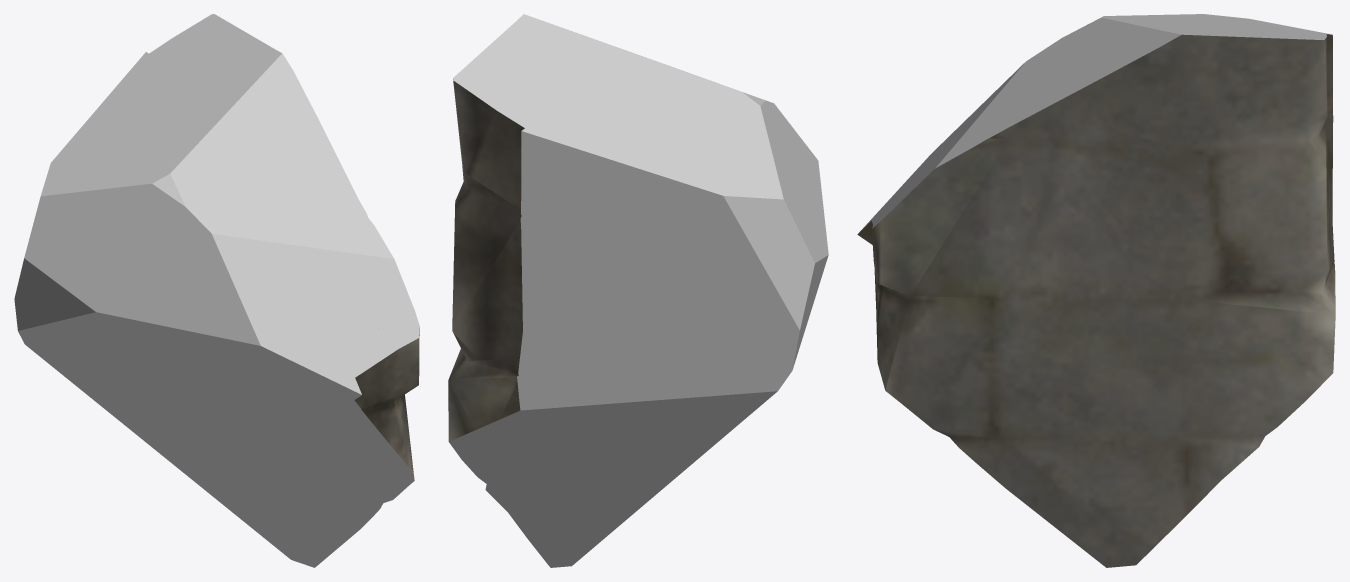
The model's file is ColumnDamage08_30.fbx.
3 views of the same model, side by side, from view 1: azimuth 30°, elevation 25°; view 2: azimuth 150°, elevation 25°; view 3: azimuth 270°, elevation 25° (orthographic). The views are drawn at different scales.
Parts seen in each view (by area): view 1: ColumnDamage08_DM.030; view 2: ColumnDamage08_DM.030; view 3: ColumnDamage08_DM.030.
Boxes of the visible parts, left/top/right/bottom form: ColumnDamage08_DM.030: left=14, top=14, right=419, bottom=567; ColumnDamage08_DM.030: left=448, top=14, right=828, bottom=567; ColumnDamage08_DM.030: left=857, top=14, right=1335, bottom=567.
Size of the model in its own units: 105 by 193 by 157.
